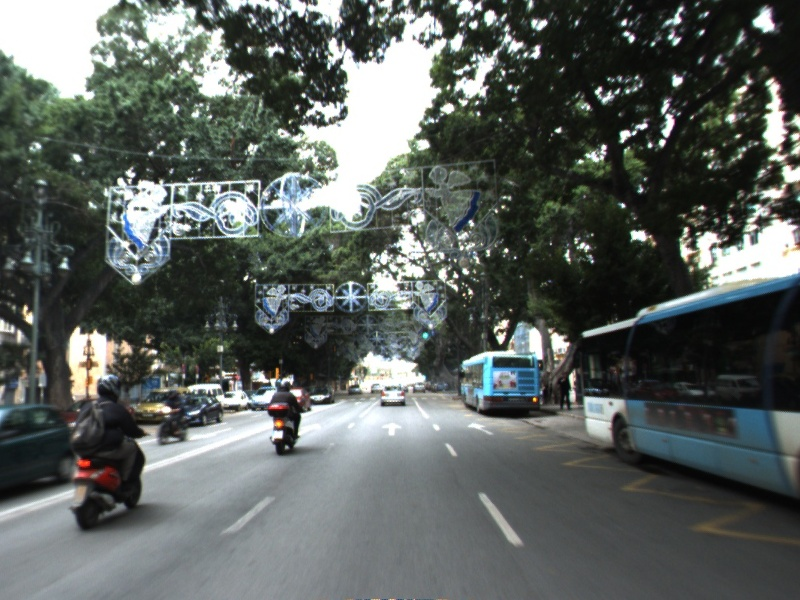STRAIGHT: (466, 420, 496, 437), (380, 420, 404, 437), (297, 421, 324, 436)
